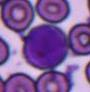L: (23, 24, 68, 70)
